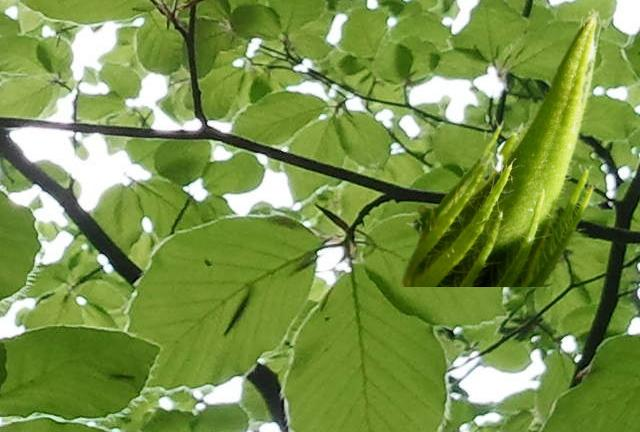okra: (397, 7, 605, 285)
